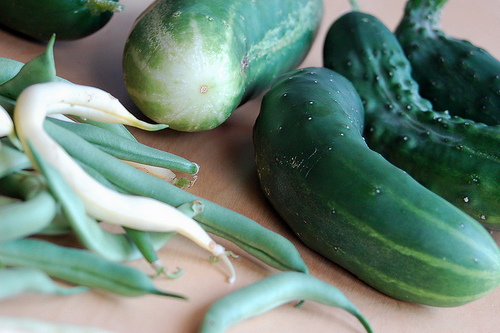cucumber: (247, 65, 499, 311), (319, 7, 499, 226), (121, 0, 329, 130), (396, 2, 499, 126), (1, 0, 118, 43)
